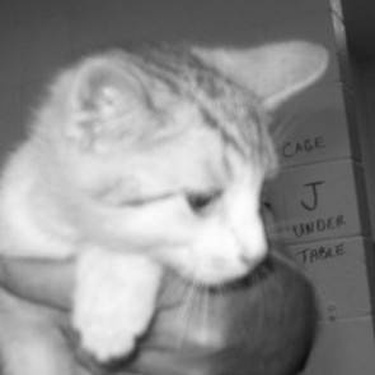cat: (9, 19, 326, 350)
